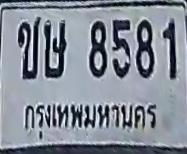1: (162, 20, 176, 78)
5: (112, 19, 130, 78)
8: (136, 19, 154, 78), (89, 20, 107, 77)
A10: (18, 16, 40, 79)
A39: (44, 19, 66, 78)
BKK: (18, 98, 162, 140)
